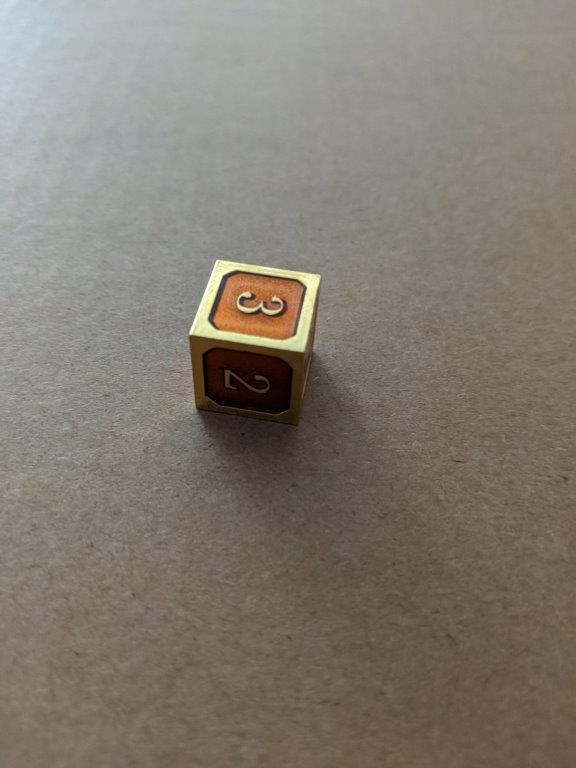d6-3: (186, 256, 324, 426)
